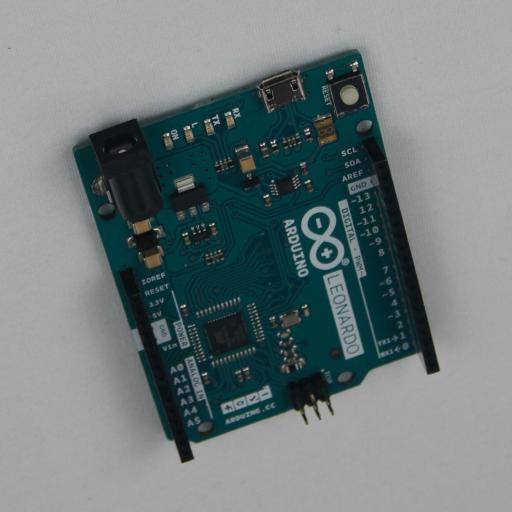Arduino Leonardo: (72, 49, 440, 463)
